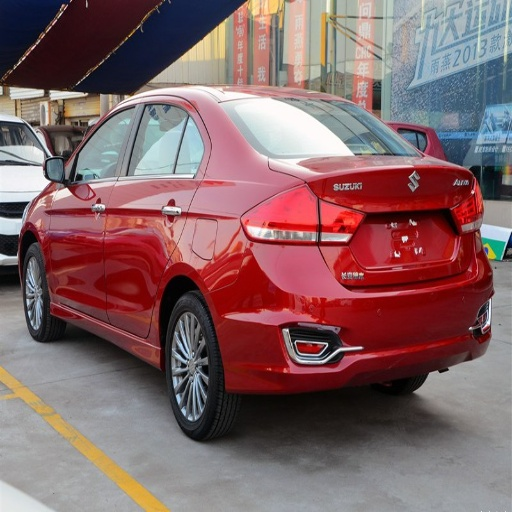back_bumper: (210, 233, 494, 389)
back_glass: (225, 97, 426, 156)
back_left_door: (106, 96, 209, 340)
